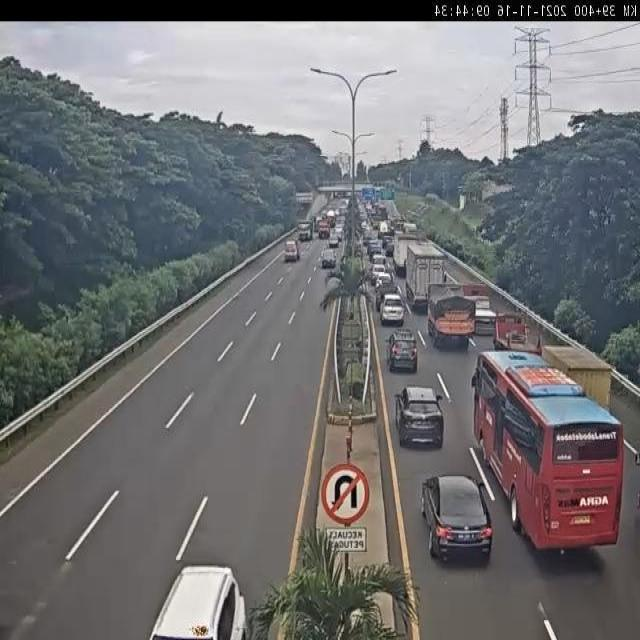Bus: (470, 344, 626, 560)
Car: (149, 561, 250, 640), (420, 475, 492, 563), (394, 384, 444, 447), (386, 330, 418, 374), (380, 296, 404, 326), (372, 272, 393, 290), (320, 248, 337, 268), (371, 263, 387, 283), (371, 252, 386, 268), (385, 242, 395, 258), (329, 234, 339, 248), (335, 225, 344, 240)
Truck: (542, 344, 614, 416), (424, 282, 474, 348), (404, 242, 447, 310), (492, 308, 544, 355), (462, 282, 501, 336), (392, 233, 420, 274), (283, 238, 299, 262), (298, 220, 312, 241), (318, 220, 330, 239), (381, 234, 394, 248), (326, 210, 336, 228)
